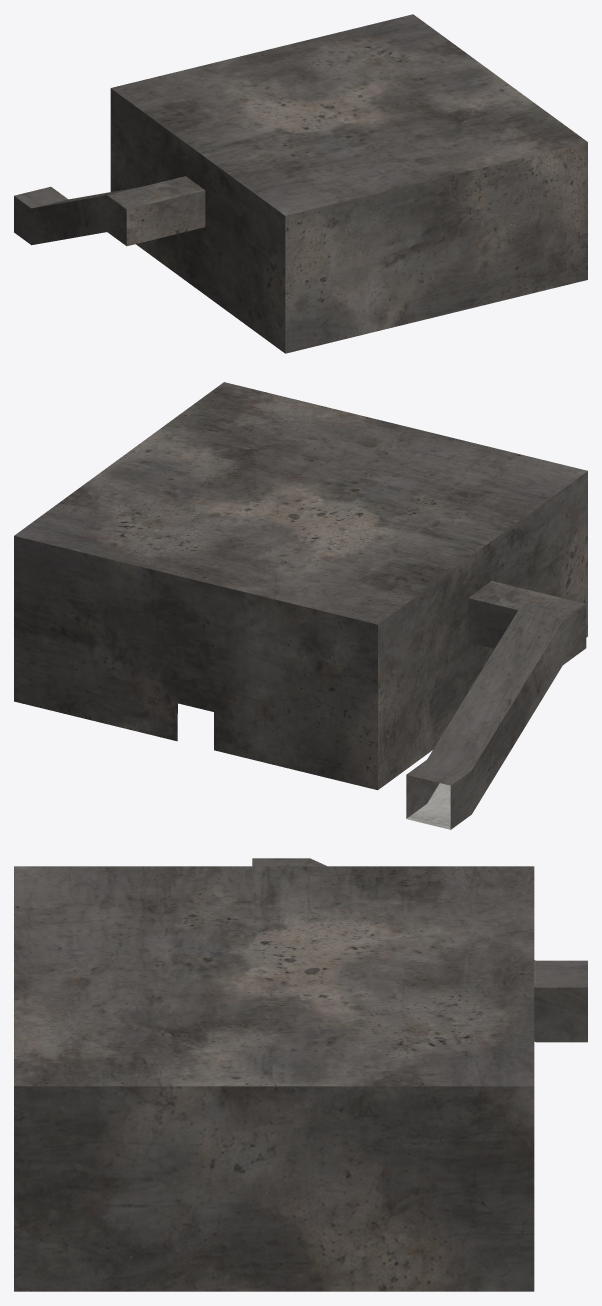
Rendered from Room2Fix.fbx.
The picture shows the model from 3 angles, top to bottom: view 1: azimuth 30°, elevation 25°; view 2: azimuth 150°, elevation 25°; view 3: azimuth 270°, elevation 25°; orthographic projection. The views are drawn at different scales.
Parts seen in each view (by area): view 1: Room 2 - Roof, Room 2 - Roof 2; view 2: Room 2 - Roof, Room 2 - Roof 2, Room 2 - Floor; view 3: Room 2 - Roof, Room 2 - Roof 2.
Boxes of the visible parts, left/top/right/bottom form: Room 2 - Roof: left=110, top=14, right=587, bottom=353; Room 2 - Roof 2: left=14, top=176, right=205, bottom=246; Room 2 - Roof: left=14, top=382, right=587, bottom=790; Room 2 - Roof 2: left=406, top=581, right=586, bottom=829; Room 2 - Floor: left=407, top=783, right=450, bottom=829; Room 2 - Roof: left=14, top=866, right=534, bottom=1291; Room 2 - Roof 2: left=252, top=858, right=587, bottom=1042.
Size of the model in its own units: 7559 by 2621 by 6618.
2 materials, 2 textured.
